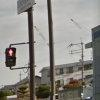traffic lights: (6, 45, 16, 69)
